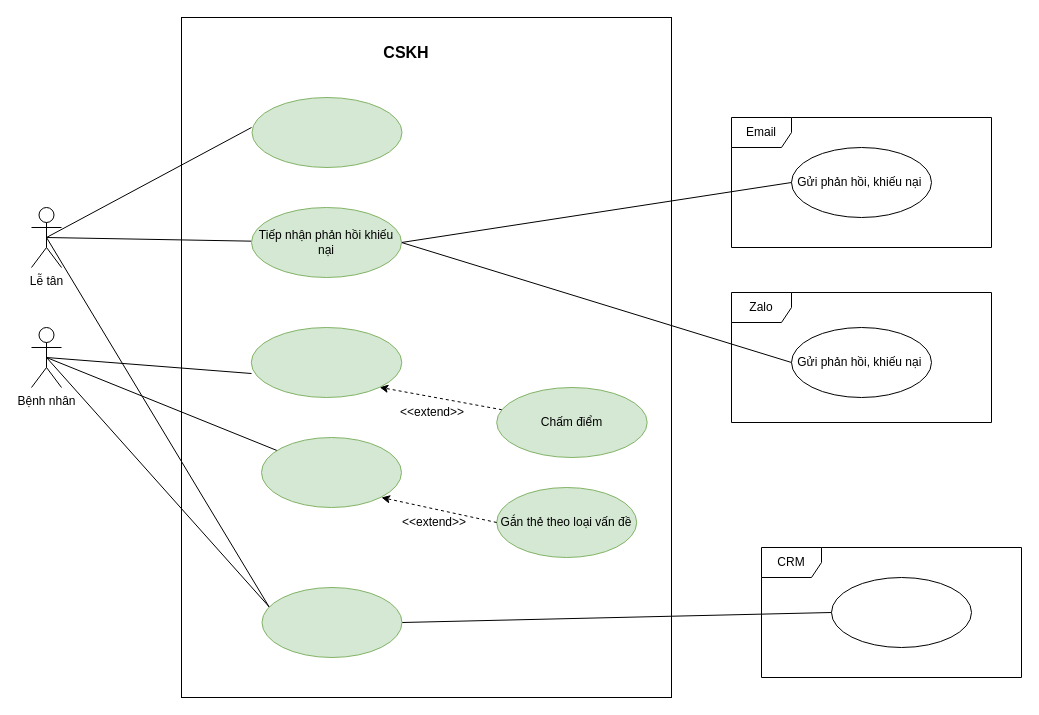
Image size: 1039x715. Some labels were removed from this diagram. The shapes that lost their labels are listed below. From the top down, each one's box as (x1, y1, x2, y2) in pixels, then its label:
(251, 96, 402, 168): Gửi phiếu đánh giá dịch vụ
(250, 326, 402, 398): Đánh giá, khiếu nại
(260, 436, 402, 508): Phân loại phản hồi
(261, 586, 402, 658): Lịch sử phản hồi
(830, 576, 972, 648): Lưu trữ lịch sử phản hồi
